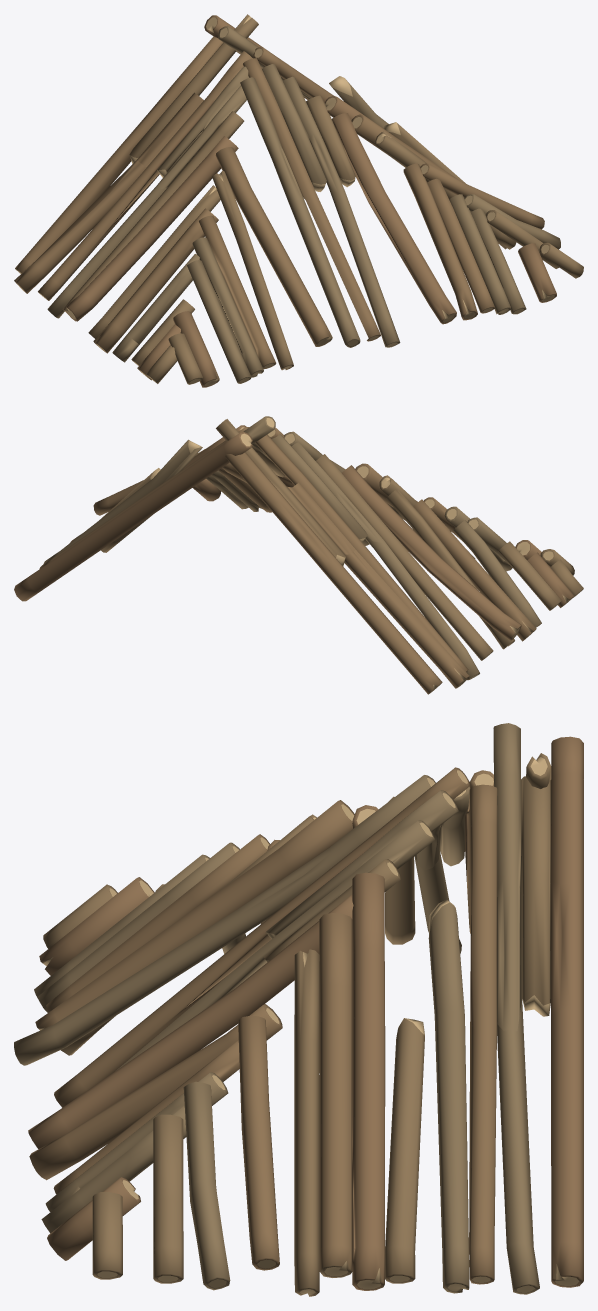
File: rpgpp_av_roof_01_9x4x3_end_02.gltf
3 renders of one model, top to bottom at view 1: azimuth 30°, elevation 25°; view 2: azimuth 150°, elevation 25°; view 3: azimuth 270°, elevation 25°, orthographic. The views are drawn at different scales.
Parts seen in each view (by area): view 1: rpgpp_av_roof_01_9x4x3_end_02; view 2: rpgpp_av_roof_01_9x4x3_end_02; view 3: rpgpp_av_roof_01_9x4x3_end_02.
Part boxes in pixels (x1,y1,x2,y2): rpgpp_av_roof_01_9x4x3_end_02: [14, 14, 583, 387]; rpgpp_av_roof_01_9x4x3_end_02: [14, 416, 583, 694]; rpgpp_av_roof_01_9x4x3_end_02: [14, 723, 583, 1296].
Bounding box in the file's own units: 0.1144 × 0.0564 × 0.0738.
1 material, 1 textured.
